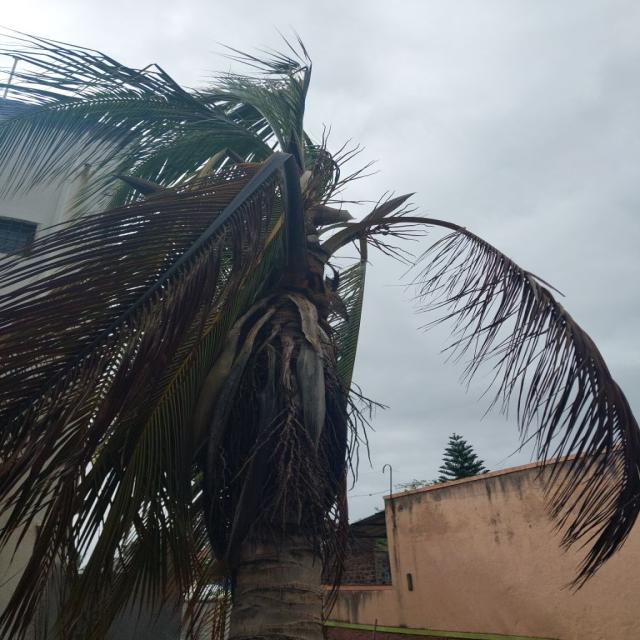bud root dropping: (0, 36, 637, 640)
